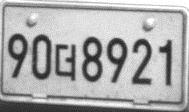0: (32, 32, 51, 81)
1: (157, 39, 173, 87)
2: (131, 39, 153, 84)
8: (81, 36, 104, 82)
9: (7, 32, 29, 78), (106, 37, 128, 83)
더: (54, 42, 76, 82)
